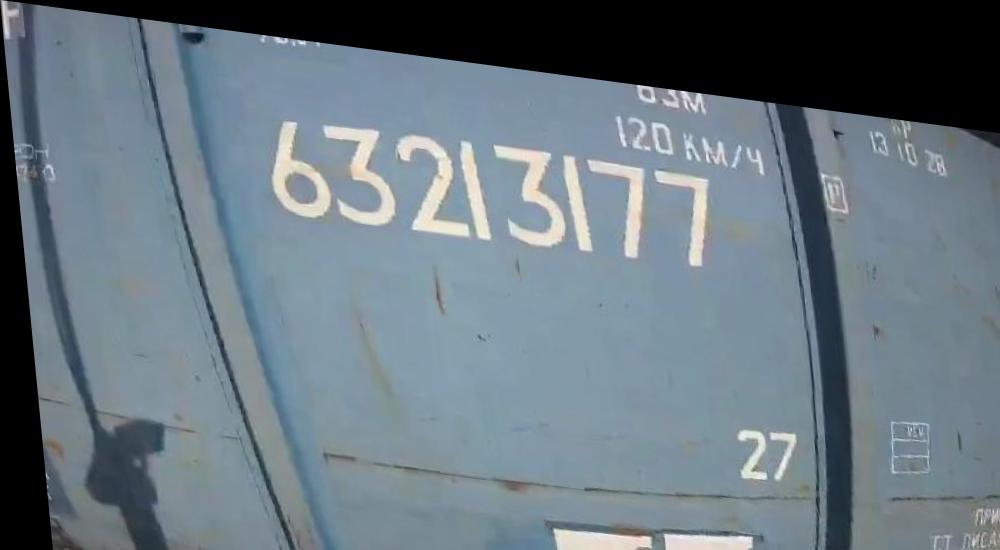Wagon-number: (257, 101, 719, 258)
